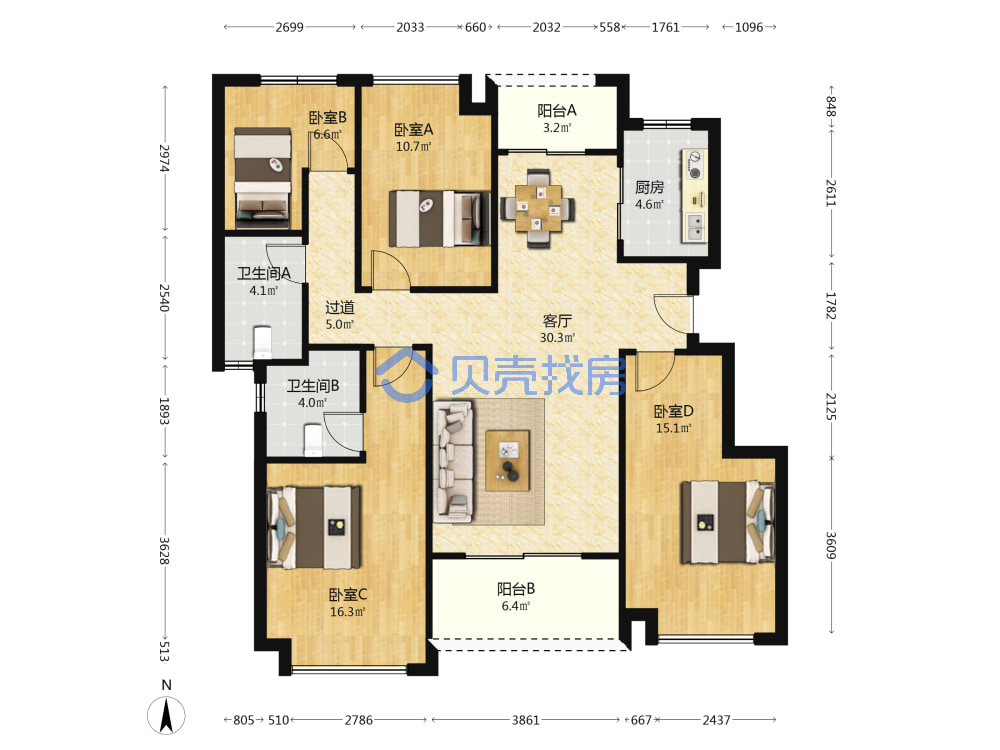DOOR(单开门): (316, 406, 375, 454), (649, 287, 706, 336), (368, 339, 418, 388), (631, 344, 680, 394), (369, 244, 415, 297), (260, 242, 313, 287), (304, 128, 350, 178)
DOOR（移门）: (459, 547, 587, 566), (607, 159, 628, 243), (502, 143, 592, 159)
